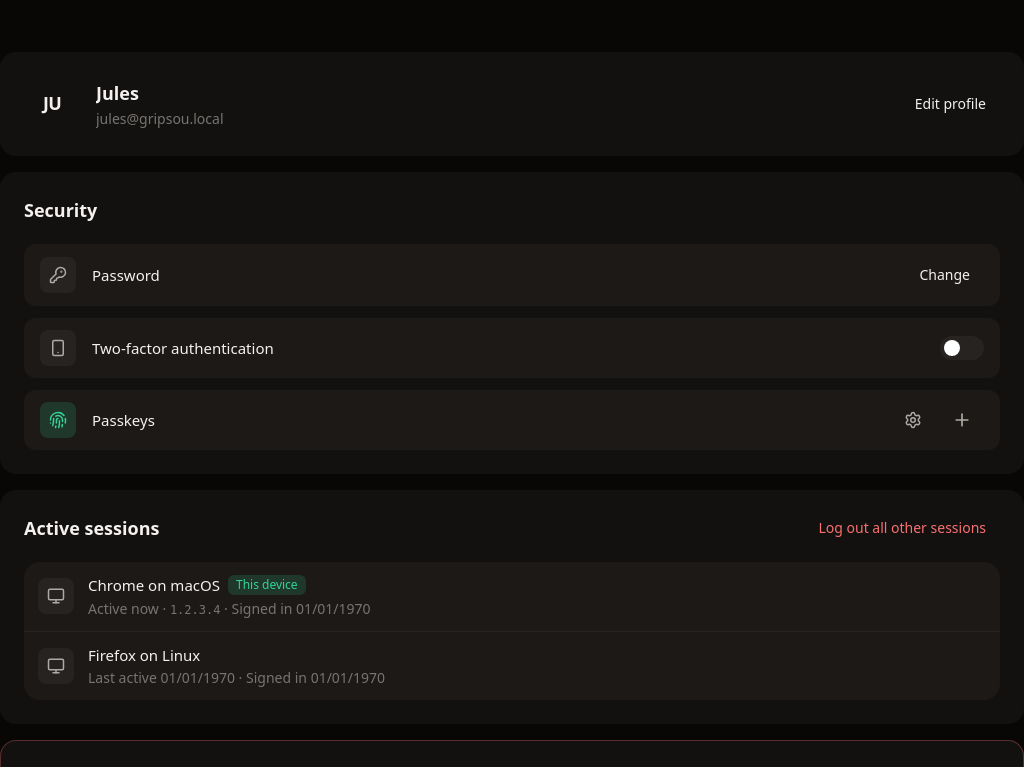
Test: SettingsAccount passkeys row › swaps the list for the add window when Add passkey is pressed inside the list
Click the button named "Manage" at point(913, 420), box [898,405,928,435]
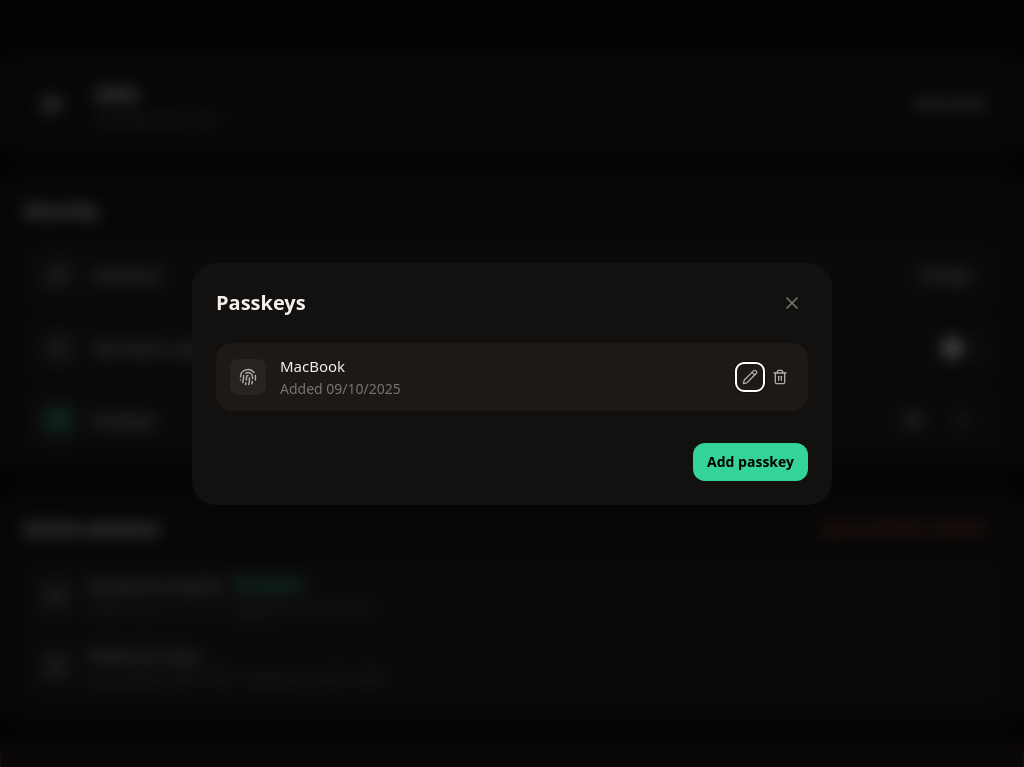
Click the button "Add passkey" at point(751, 462), box [693,443,808,481]
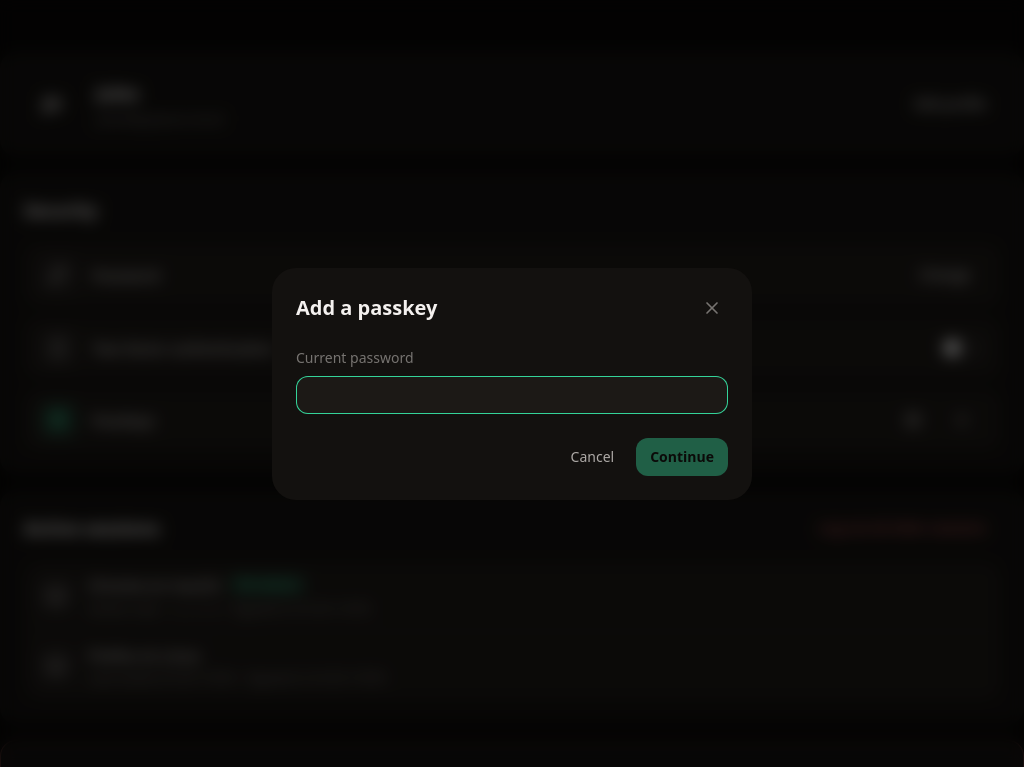
Result: the dialog "Add a passkey" is shown at [272,268,752,500]
